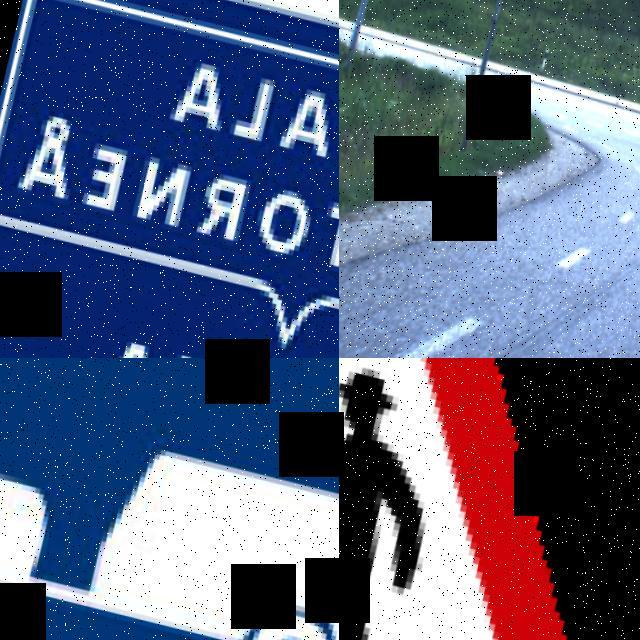106: (0, 0, 339, 358)
Pedestrian crossing: (339, 358, 640, 640)
Symbol plate for specified vehicle or road user category: (0, 358, 339, 640)
